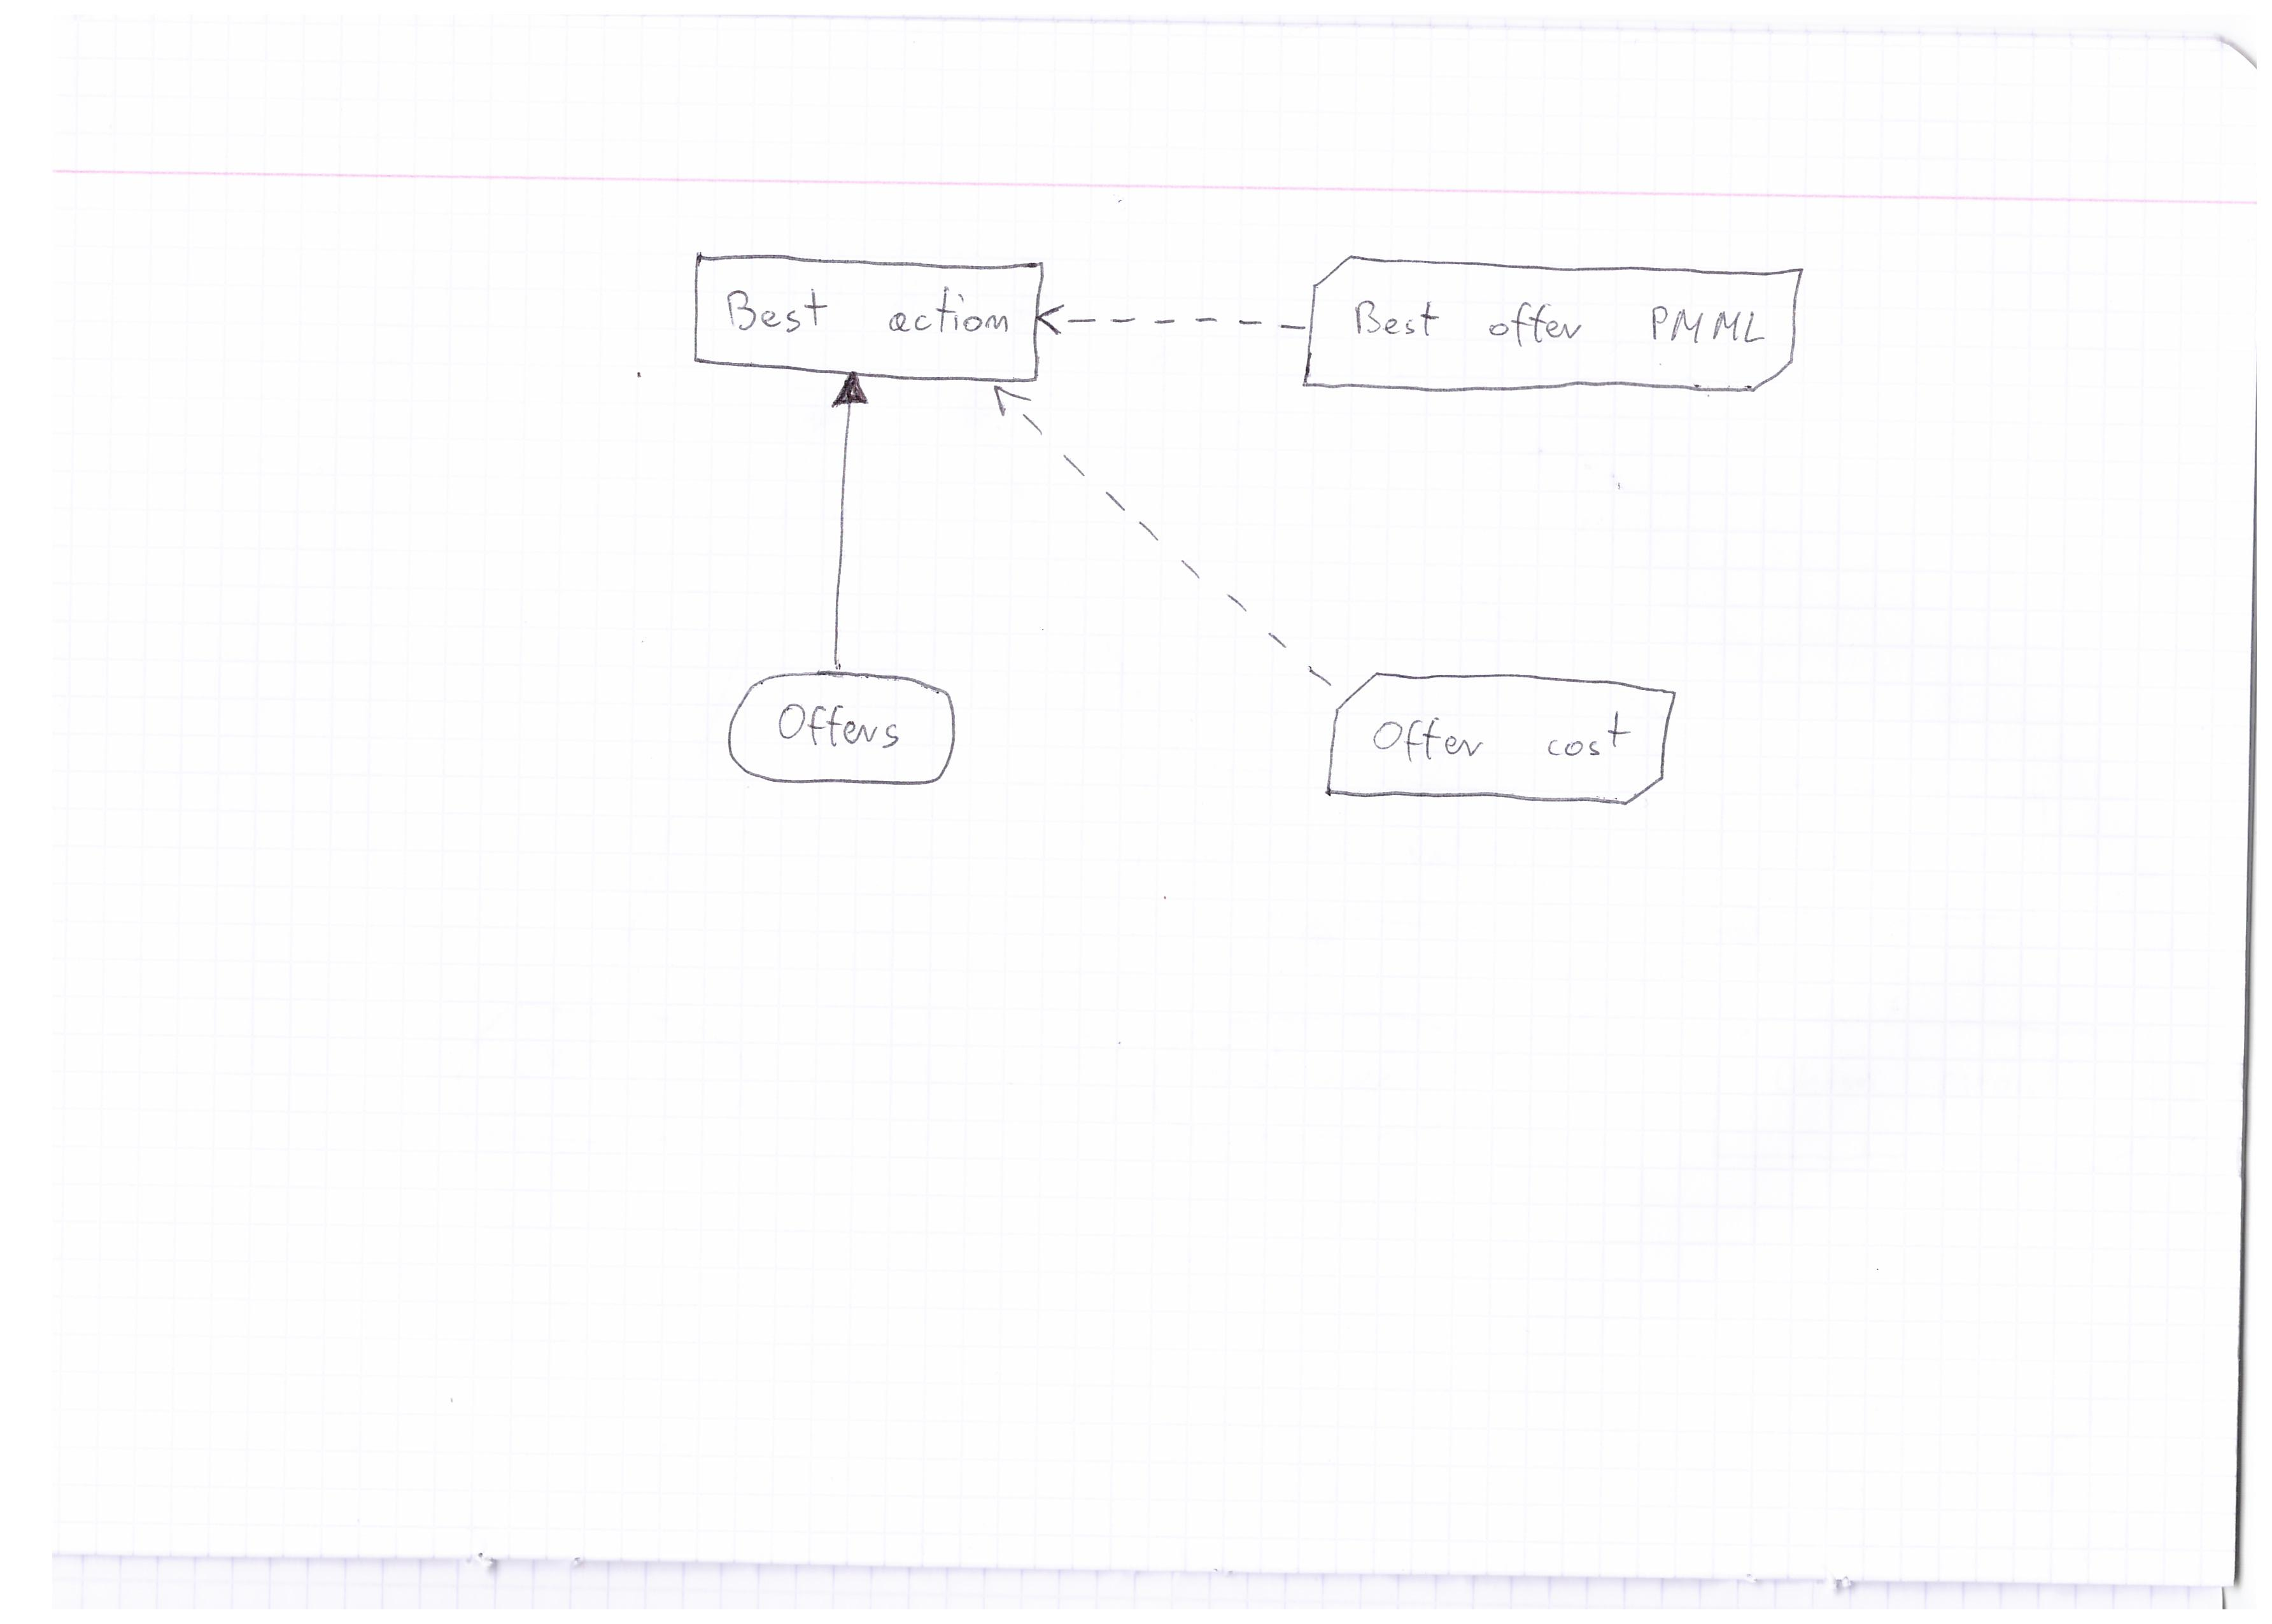arrow_information_requirement: (815, 364, 870, 675)
arrow_knowledge_requirement: (980, 385, 1337, 692), (1035, 294, 1309, 348)
node_decision: (689, 251, 1042, 383)
node_input_data: (713, 670, 961, 791)
node_knowledge_model: (1300, 250, 1819, 404), (1328, 657, 1685, 816)
text: (1346, 281, 1773, 360), (1369, 701, 1643, 780), (713, 278, 1017, 343), (764, 689, 914, 765)
